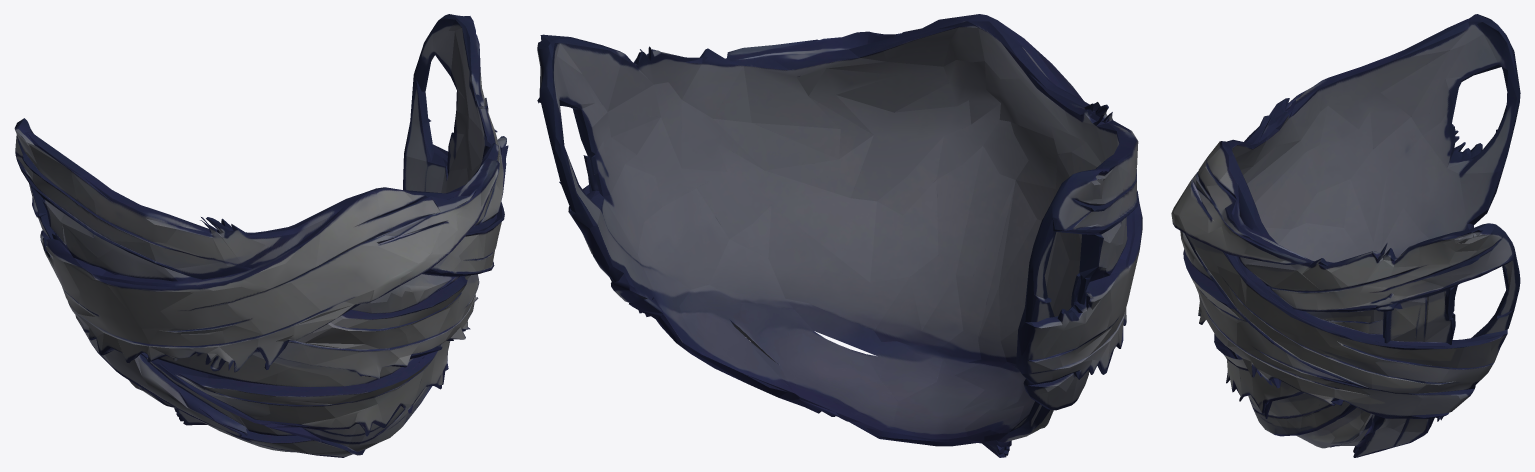
Rendered from nerith_m-masque-2-bandes-enroulees.glb.
3 views of the same model, side by side, from view 1: azimuth 30°, elevation 25°; view 2: azimuth 150°, elevation 25°; view 3: azimuth 270°, elevation 25° (orthographic). The views are drawn at different scales.
Visible parts, largest first — view 1: geometry_0; view 2: geometry_0; view 3: geometry_0.
Boxes of the visible parts, <box> form: geometry_0: <box>14,14,508,457</box>; geometry_0: <box>537,14,1142,457</box>; geometry_0: <box>1171,14,1520,457</box>.
Bounding box in the file's own units: 1.9 × 1.27 × 1.29.
Materials: 1 (1 with a texture image).
